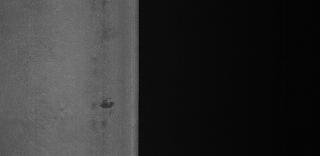oil spot: (96, 96, 116, 114)
